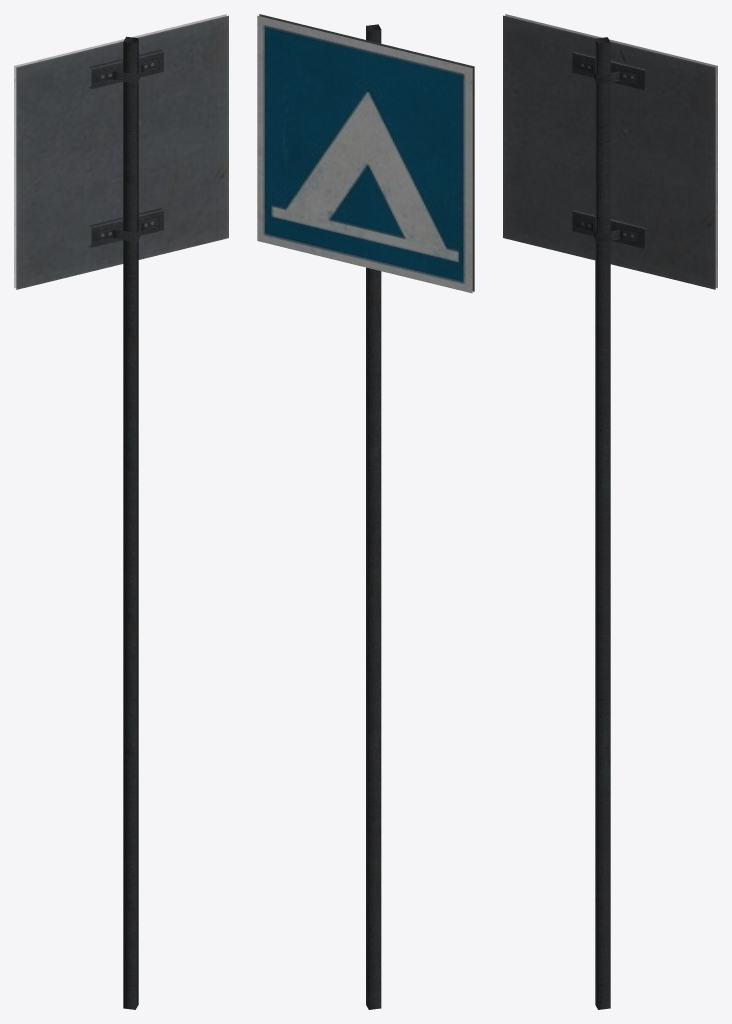
Rendered from Camping.glb.
3 views of the same model, side by side, from view 1: azimuth 30°, elevation 25°; view 2: azimuth 150°, elevation 25°; view 3: azimuth 330°, elevation 25° (orthographic).
Parts seen in each view (by area): view 1: Camping__LOD1; view 2: Camping__LOD1; view 3: Camping__LOD1.
Part boxes in pixels (x1=…): Camping__LOD1: x1=14, y1=14, x2=228, y2=1009; Camping__LOD1: x1=257, y1=14, x2=474, y2=1009; Camping__LOD1: x1=503, y1=14, x2=717, y2=1009.
Bounding box in the file's own units: 0.6891 × 2.99 × 0.0909.
1 material, 1 textured.
